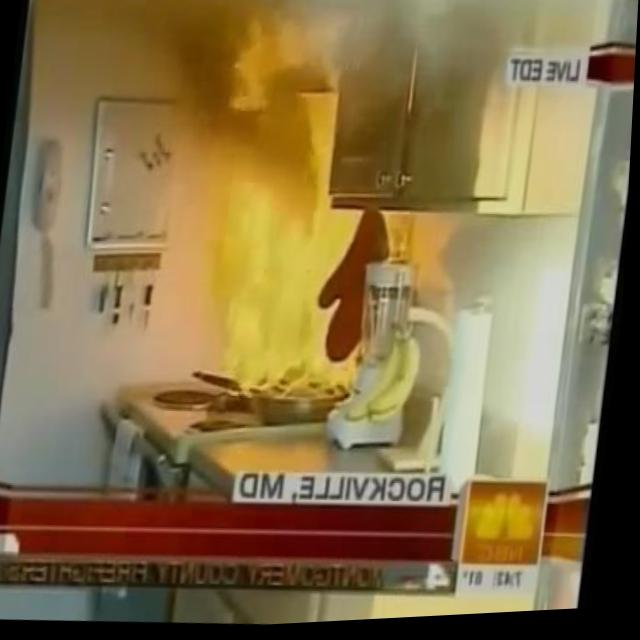fire: (175, 6, 438, 406)
